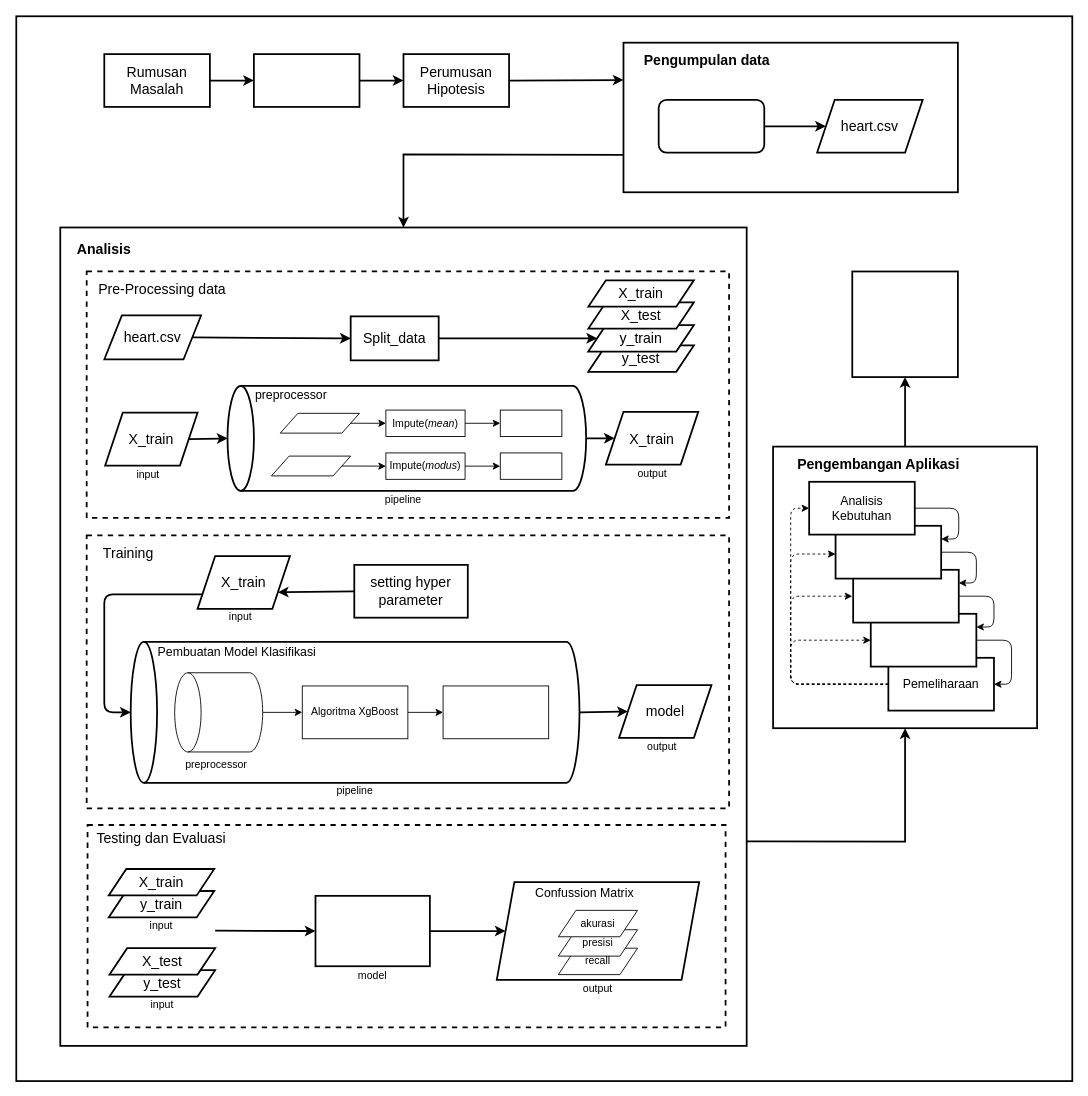
Image size: 1088x1096. Some labels were removed from this diagram. The centre of each missing label's shape, as x and y in pixels:
categoric: point 311,465
Coding: point 905,595
Desain: point 888,551
Encoder: point 530,465
Hyper parameter tuning dan Cross Validation: point 495,712
Kaggle: point 711,126
Kesimpulan dan saran: point 904,324
numeric: point 319,422
Pengujian: point 923,639
Predict: point 372,931
Scalling: point 530,422
Studi Pustaka: point 306,80
